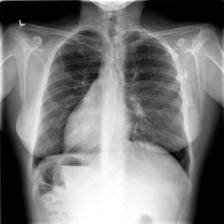normal: (24, 21, 195, 199)
